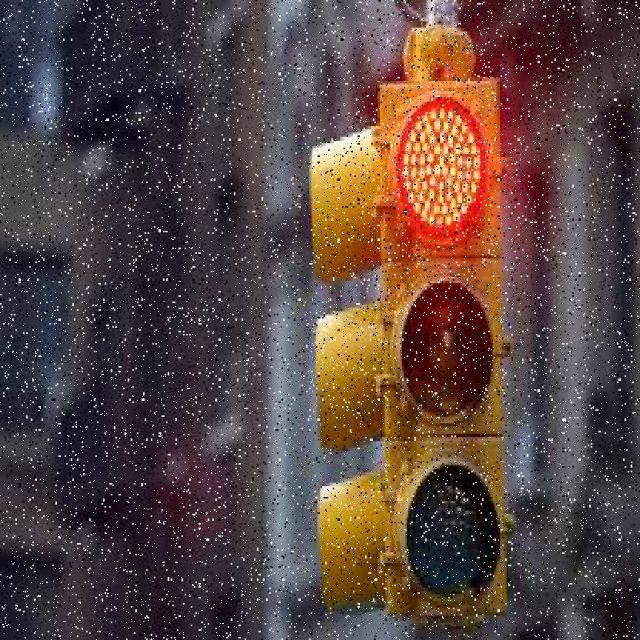red-ligth: (314, 30, 564, 636)
